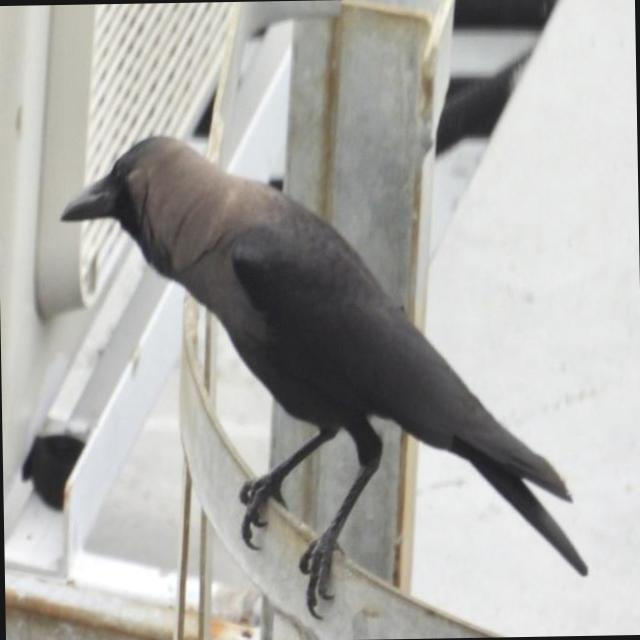crow: (53, 116, 598, 631)
